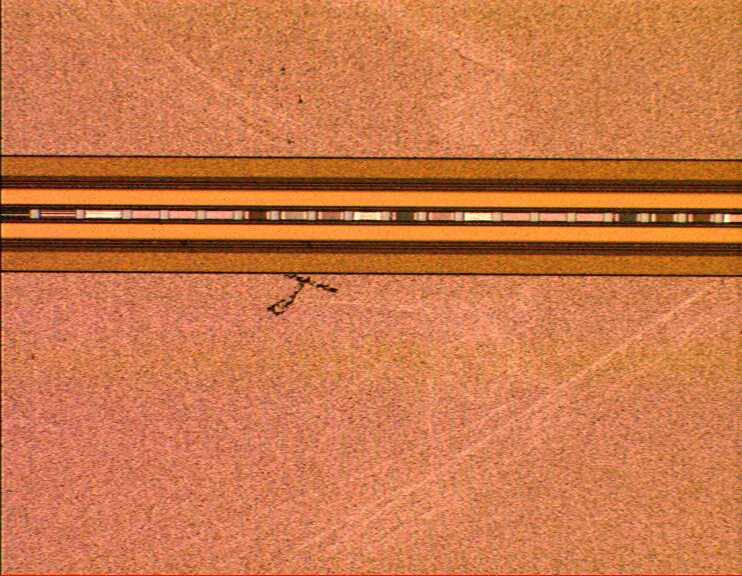SCRATCH: (105, 1, 728, 576)
